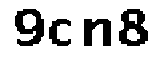8: (117, 2, 149, 53)
9: (10, 5, 45, 51)
c: (50, 13, 76, 49)
n: (81, 14, 114, 52)
